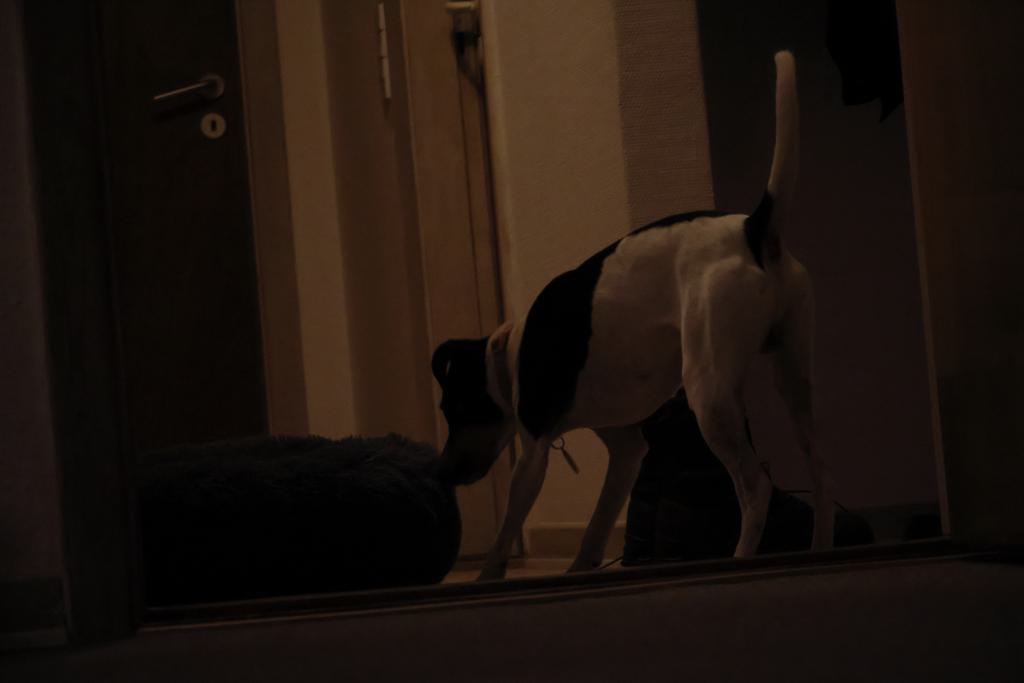Dog: (413, 39, 862, 593)
